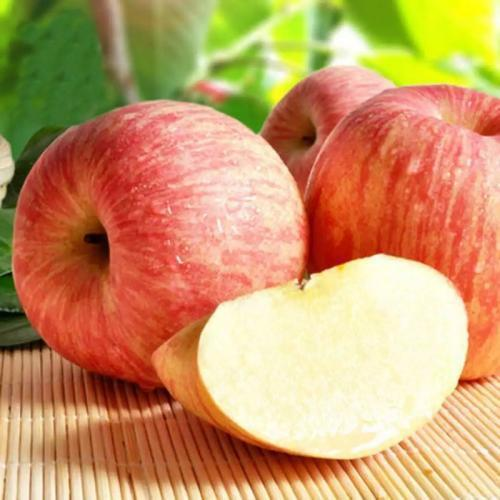apple: (10, 93, 310, 393), (279, 76, 500, 384)
